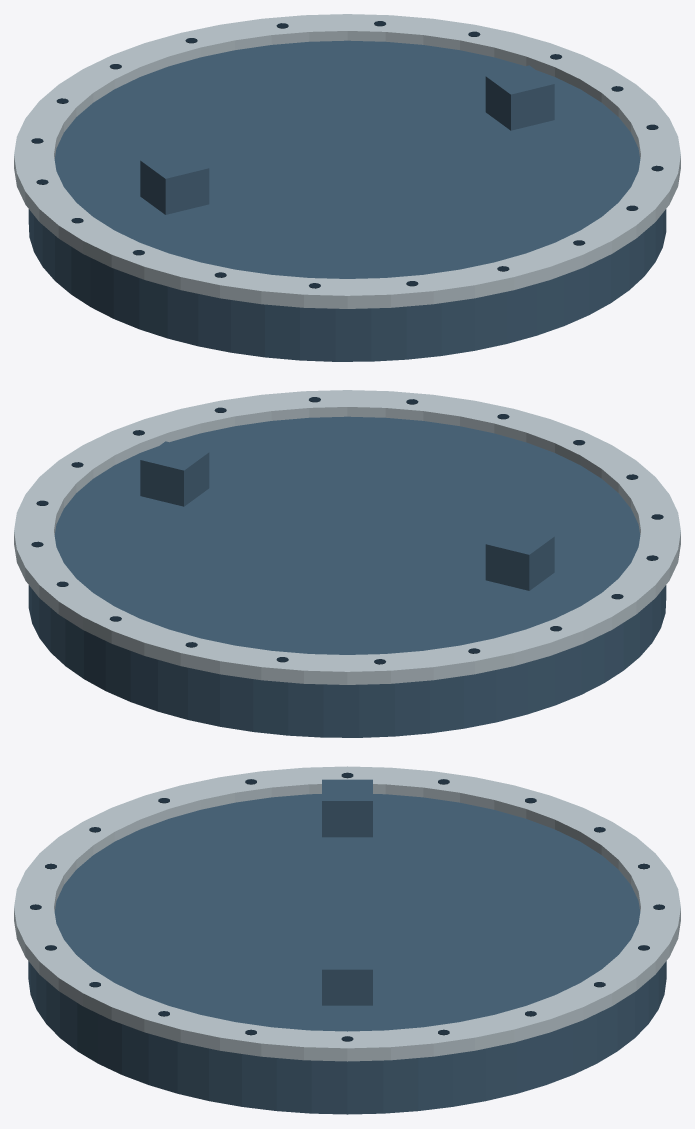
The model's file is 13_L78_CopperCapReactorLid.fbx.
3 views of the same model, one above another, from view 1: azimuth 30°, elevation 25°; view 2: azimuth 150°, elevation 25°; view 3: azimuth 270°, elevation 25° (orthographic).
Parts seen in each view (by area): view 1: CopperCapReactorLid; view 2: CopperCapReactorLid; view 3: CopperCapReactorLid.
Boxes of the visible parts, x1=… form: CopperCapReactorLid: x1=14, y1=14, x2=680, y2=361; CopperCapReactorLid: x1=14, y1=390, x2=680, y2=737; CopperCapReactorLid: x1=14, y1=766, x2=680, y2=1114.
Size of the model in its own units: 368 by 64 by 368.
